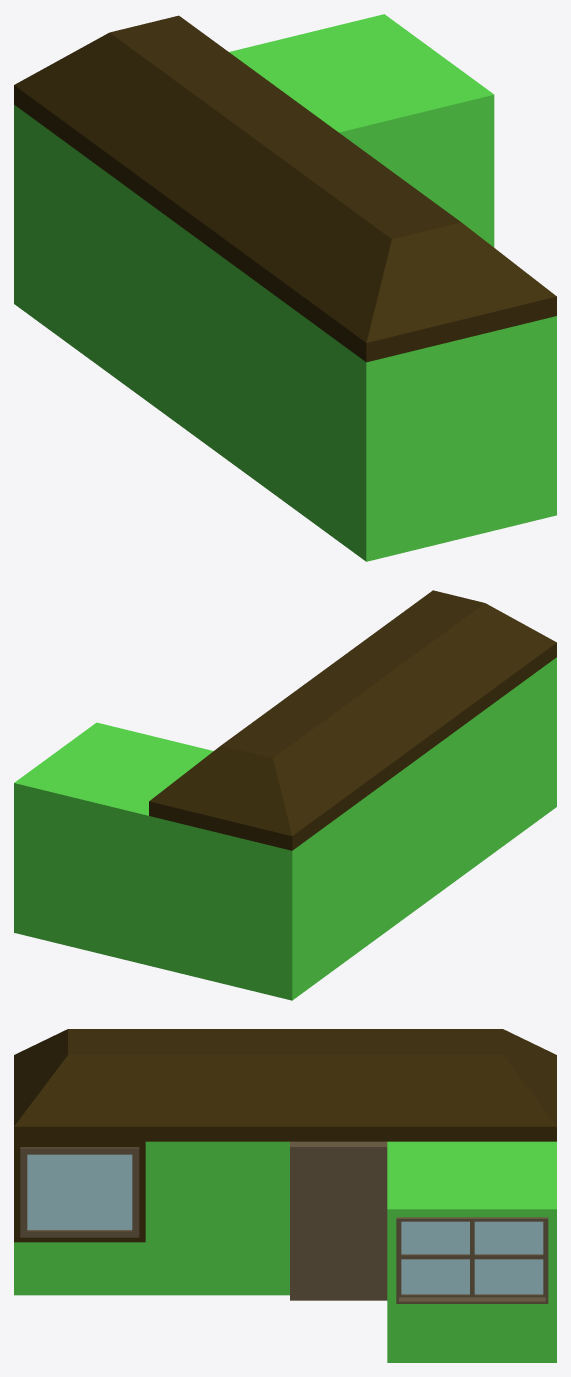
Rendered from Gouse Green.fbx.
The picture shows the model from 3 angles, top to bottom: view 1: azimuth 30°, elevation 25°; view 2: azimuth 150°, elevation 25°; view 3: azimuth 270°, elevation 25°; orthographic projection. The views are drawn at different scales.
Visible parts, largest first — view 1: Cube.001; view 2: Cube.001; view 3: Cube.001.
Part boxes in pixels (x1,y1,x2,y2): Cube.001: (14,14,556,561); Cube.001: (14,590,556,1000); Cube.001: (14,1029,556,1362).
Bounding box in the file's own units: 7607 × 5464 × 12368.
